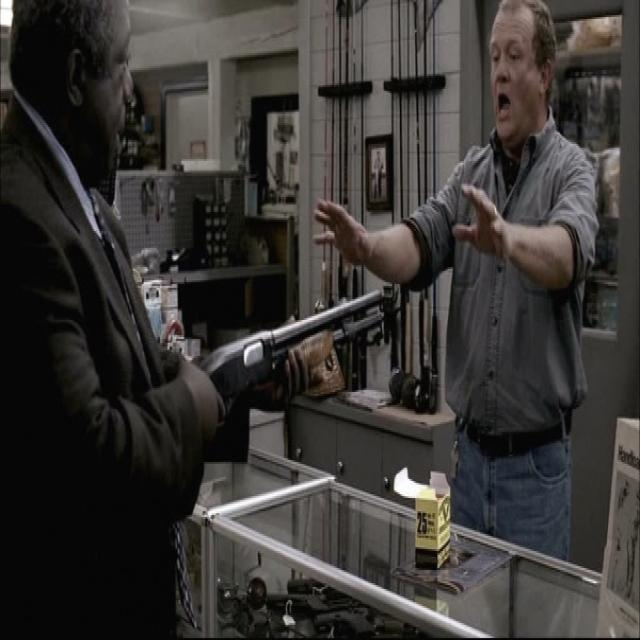rifle: (201, 290, 402, 411)
